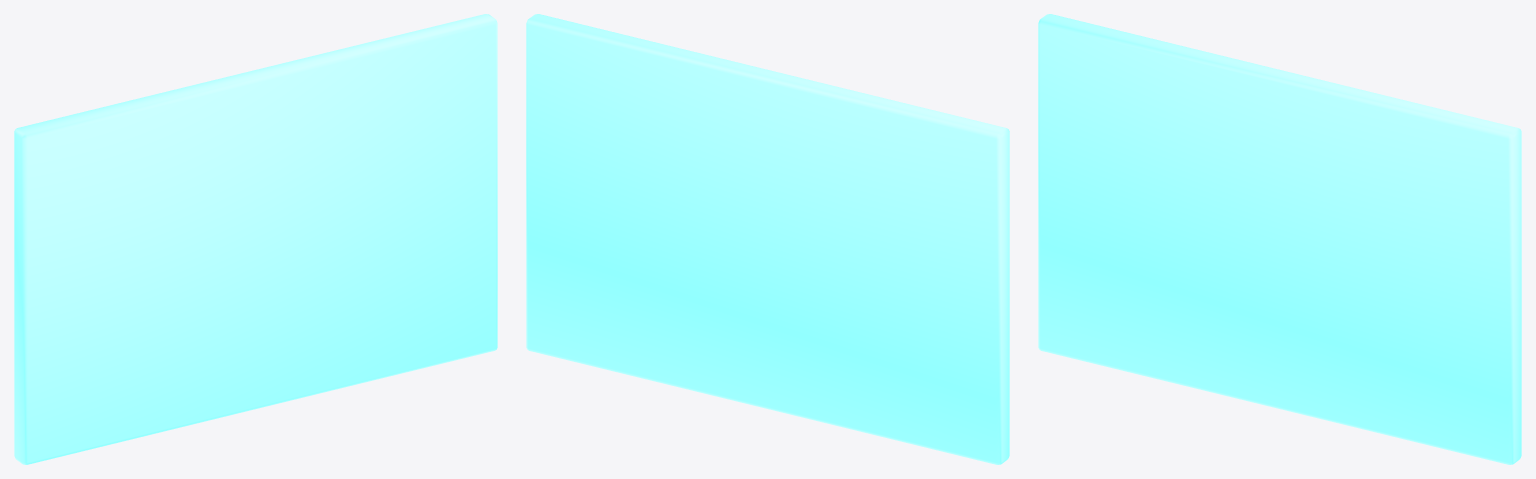
File: MM_DepositDrum__Screen.fbx
3 renders of one model, left to right at view 1: azimuth 30°, elevation 25°; view 2: azimuth 150°, elevation 25°; view 3: azimuth 330°, elevation 25°, orthographic.
Parts seen in each view (by area): view 1: MM_DepositDrum__Screen; view 2: MM_DepositDrum__Screen; view 3: MM_DepositDrum__Screen.
Part boxes in pixels (<box>): MM_DepositDrum__Screen: <box>14,14,497,464</box>; MM_DepositDrum__Screen: <box>526,14,1009,464</box>; MM_DepositDrum__Screen: <box>1038,14,1521,464</box>.
Size of the model in its own units: 120 by 80 by 5.
